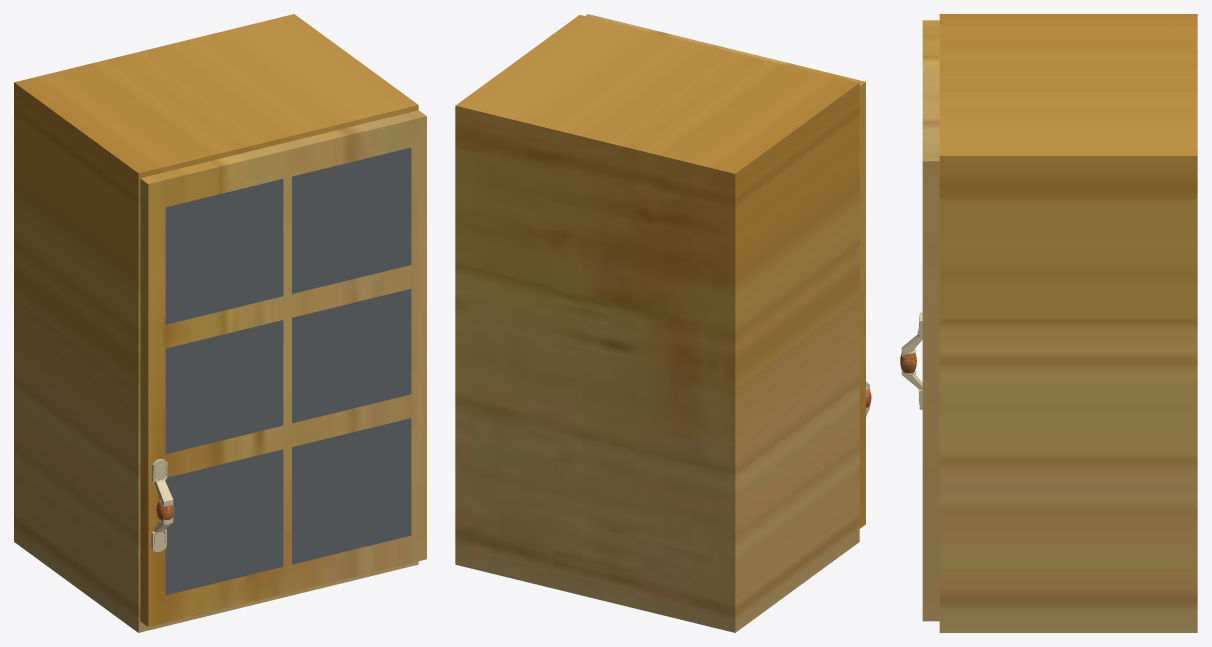
File: sweethome3d-contributions-wood-glass-door-cabinet-220.glb
The picture shows the model from 3 angles, left to right: view 1: azimuth 30°, elevation 25°; view 2: azimuth 150°, elevation 25°; view 3: azimuth 270°, elevation 25°; orthographic projection. The views are drawn at different scales.
Visible parts, largest first — view 1: PolyMesh_9, sweethome3d_window_pane, PolyMesh_11_1, verthandle; view 2: PolyMesh_9, PolyMesh_11_1; view 3: PolyMesh_9, PolyMesh_11_1, verthandle.
Boxes of the visible parts, <box> form: PolyMesh_9: <box>14,14,418,632</box>; sweethome3d_window_pane: <box>165,147,411,595</box>; PolyMesh_11_1: <box>140,110,426,626</box>; verthandle: <box>151,459,173,552</box>; PolyMesh_9: <box>455,15,859,632</box>; PolyMesh_11_1: <box>585,14,865,528</box>; PolyMesh_9: <box>939,14,1197,632</box>; PolyMesh_11_1: <box>922,20,939,621</box>; verthandle: <box>901,312,922,409</box>.
Size of the model in its own units: 4.06 by 6.37 by 3.6.
Materials: 4 (2 with a texture image).
